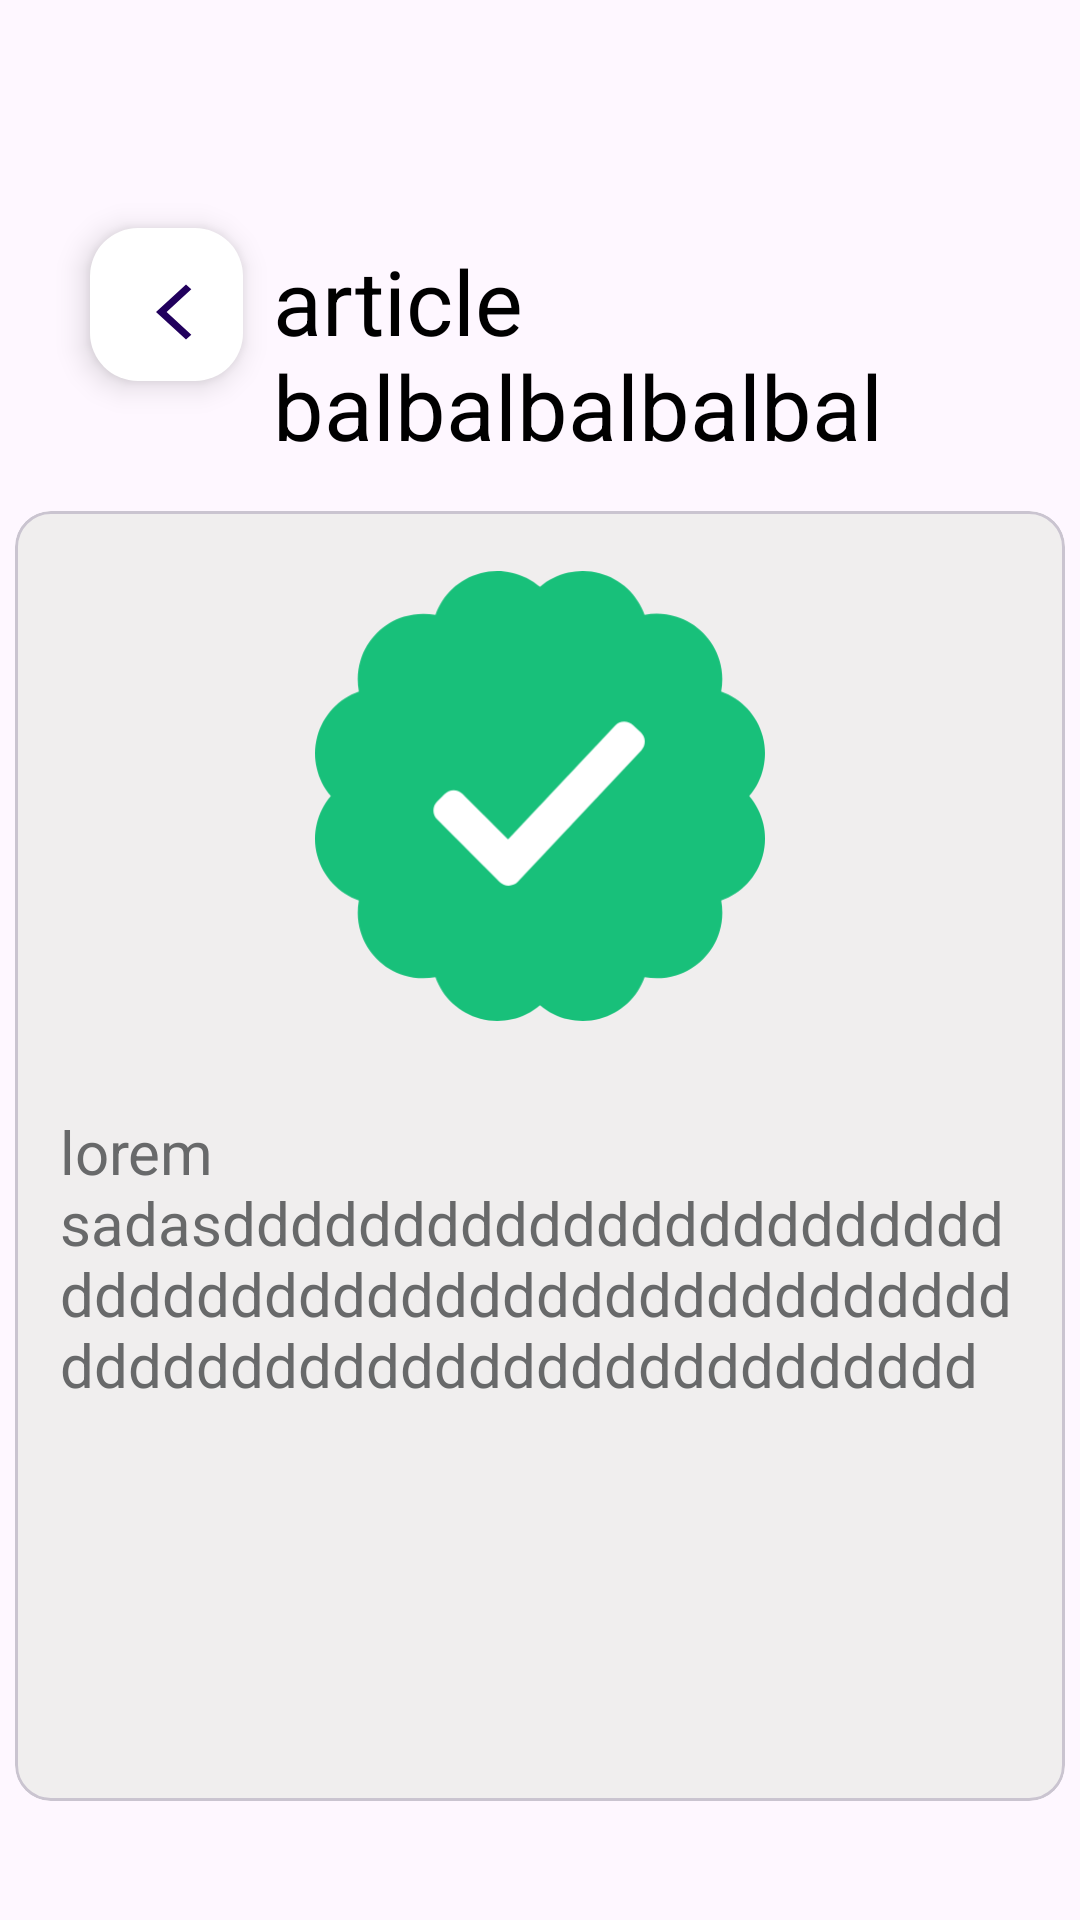

Where icons sit on this 1080*1920 app screen, as (x1, y1, x2, y2):
arrow back: (90, 228, 243, 381)
